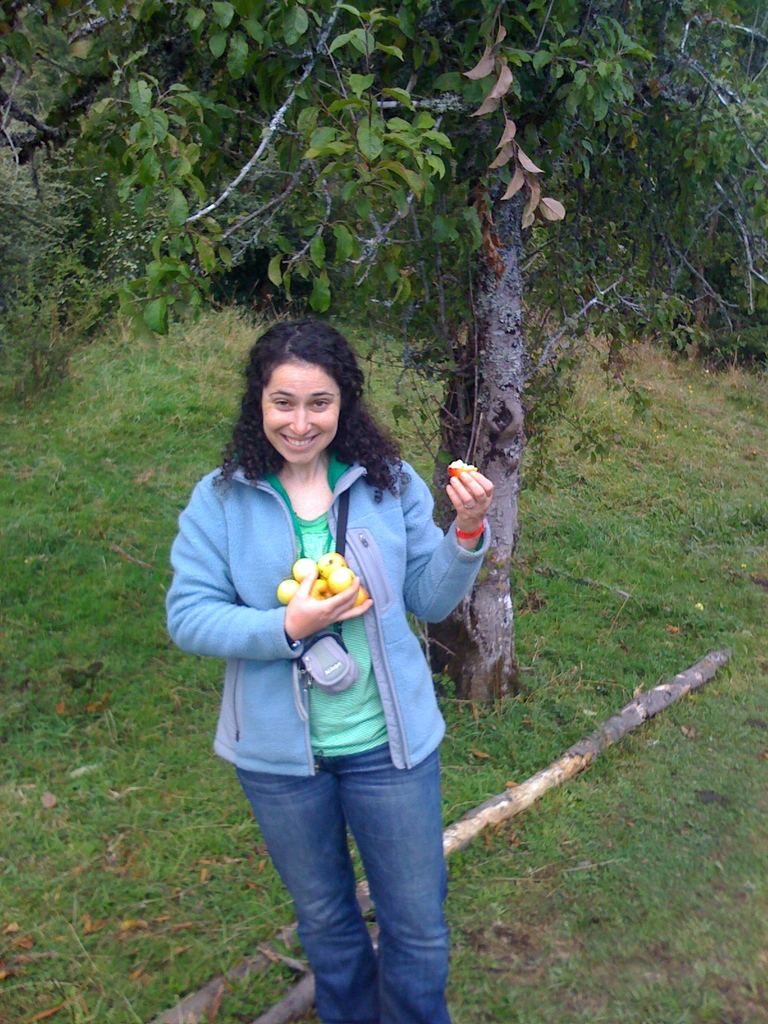Apple: (275, 550, 366, 606), (327, 566, 357, 595), (446, 457, 480, 480)
